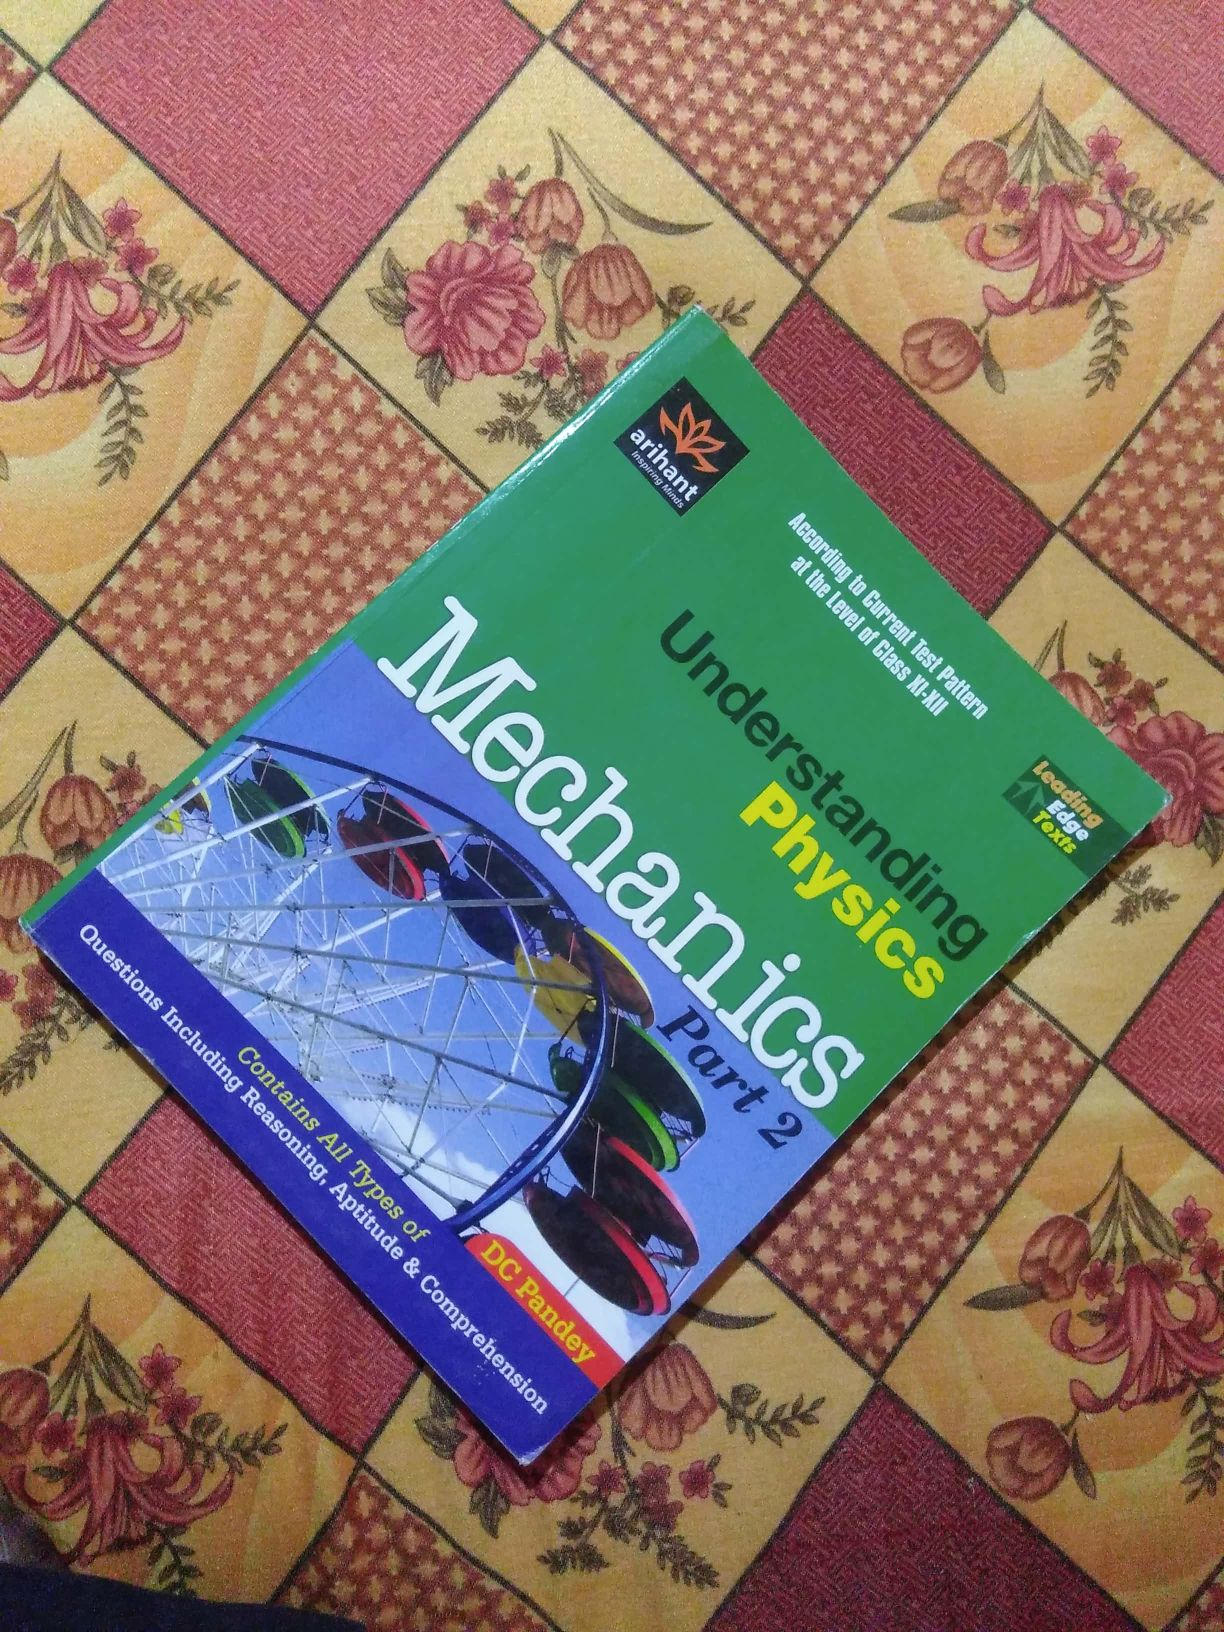mechanics: (64, 310, 1185, 1473)
